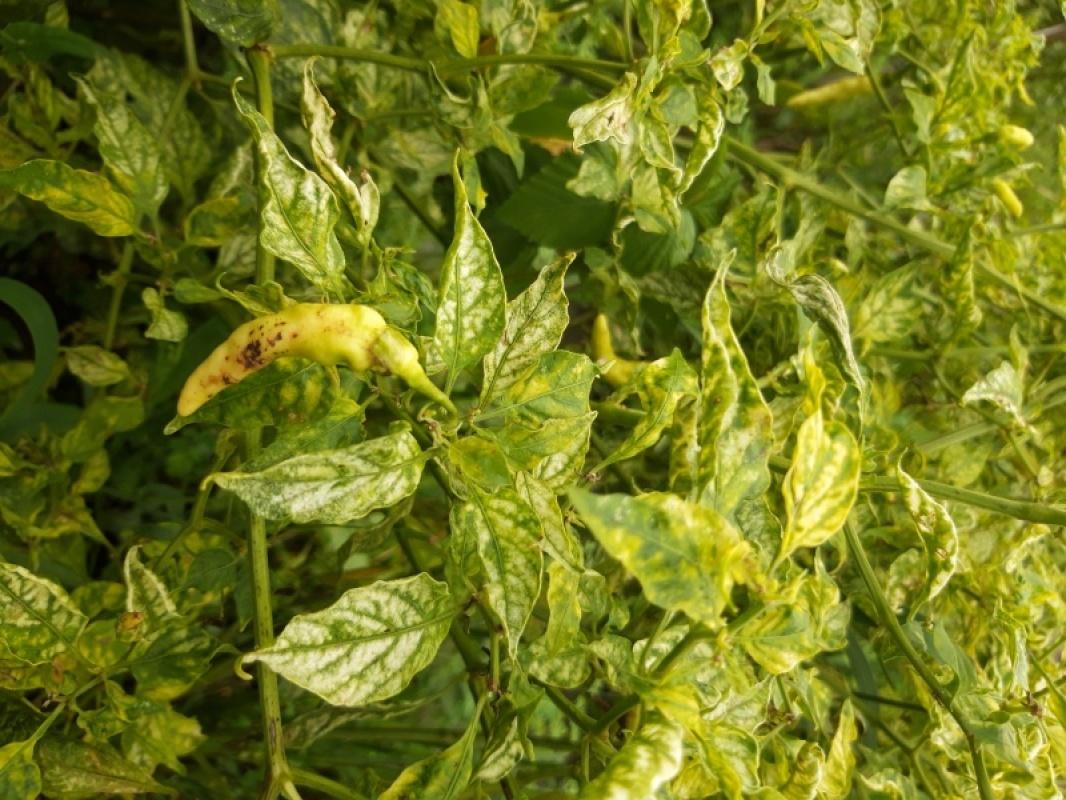antraknosa: (171, 300, 391, 416)
